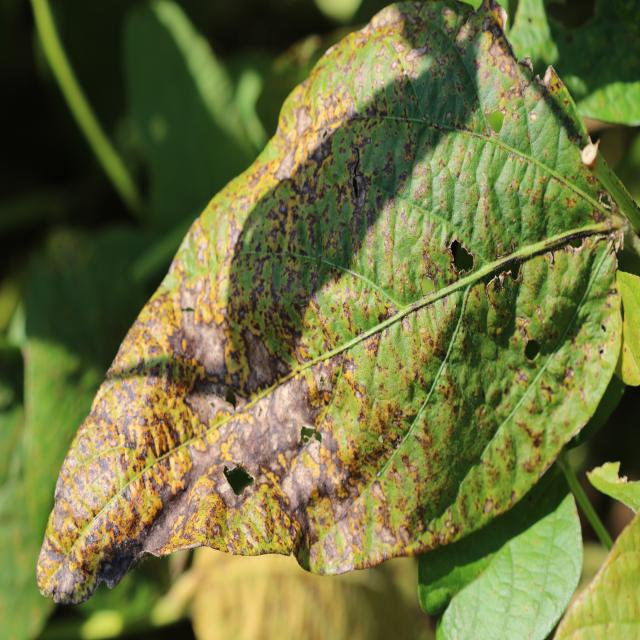Bacterial_Blight: (382, 78, 496, 289), (331, 111, 421, 289), (509, 229, 614, 366), (83, 373, 196, 480), (229, 125, 316, 255), (63, 436, 148, 536), (269, 428, 331, 558), (356, 324, 422, 445), (399, 29, 469, 138), (218, 476, 299, 558), (533, 62, 599, 162), (318, 486, 391, 572), (304, 389, 361, 499), (178, 232, 234, 336), (252, 374, 315, 465), (322, 268, 384, 358), (164, 330, 237, 396), (169, 486, 230, 551), (268, 114, 327, 181), (133, 503, 195, 562), (236, 324, 288, 390), (527, 93, 565, 183), (456, 0, 510, 56), (181, 382, 235, 432), (281, 373, 332, 414), (46, 556, 87, 604), (560, 230, 613, 267), (310, 294, 343, 350), (547, 0, 599, 33), (487, 35, 519, 83), (495, 70, 528, 116), (214, 469, 250, 509), (534, 63, 567, 100), (514, 417, 546, 455), (178, 240, 204, 281), (310, 361, 332, 396), (563, 235, 588, 253), (370, 480, 389, 503), (409, 41, 431, 59), (520, 55, 535, 76), (382, 154, 394, 177), (484, 498, 494, 514), (399, 170, 408, 182)
Soybean: (36, 1, 630, 606)
